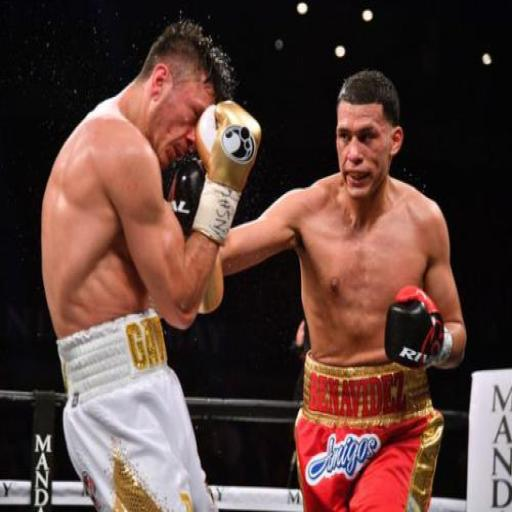boxing: (179, 67, 468, 511), (39, 18, 262, 510)
